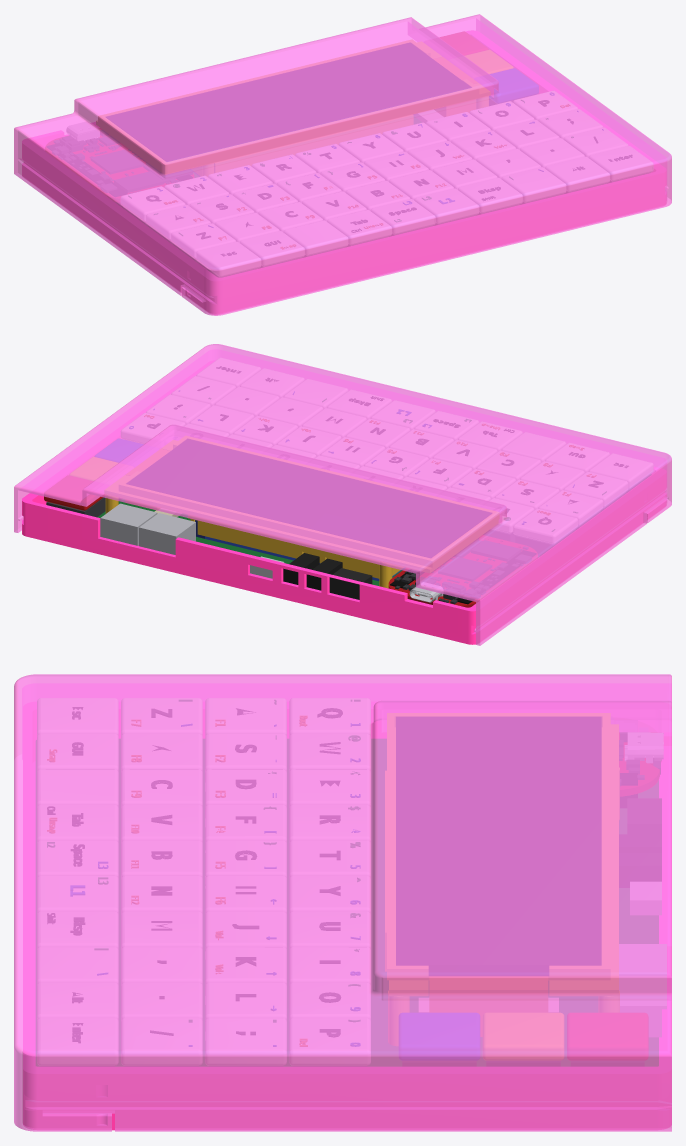
The model's file is cover_bubblegum.glb.
The picture shows the model from 3 angles, top to bottom: view 1: azimuth 30°, elevation 25°; view 2: azimuth 150°, elevation 25°; view 3: azimuth 270°, elevation 25°; orthographic projection. The views are drawn at different scales.
Visible parts, largest first — view 1: Lid, Internals, Tray; view 2: Lid, Internals, Tray; view 3: Lid, Internals, Tray.
Boxes of the visible parts, bbox=[...] form: Lid: bbox=[14, 14, 671, 315]; Internals: bbox=[45, 32, 652, 276]; Tray: bbox=[22, 31, 665, 314]; Lid: bbox=[14, 344, 671, 645]; Internals: bbox=[44, 358, 652, 607]; Tray: bbox=[22, 361, 665, 644]; Lid: bbox=[14, 674, 671, 1131]; Internals: bbox=[36, 698, 666, 1065]; Tray: bbox=[23, 702, 671, 1130].
Size of the model in its own units: 0.1818 by 0.0232 by 0.133.
